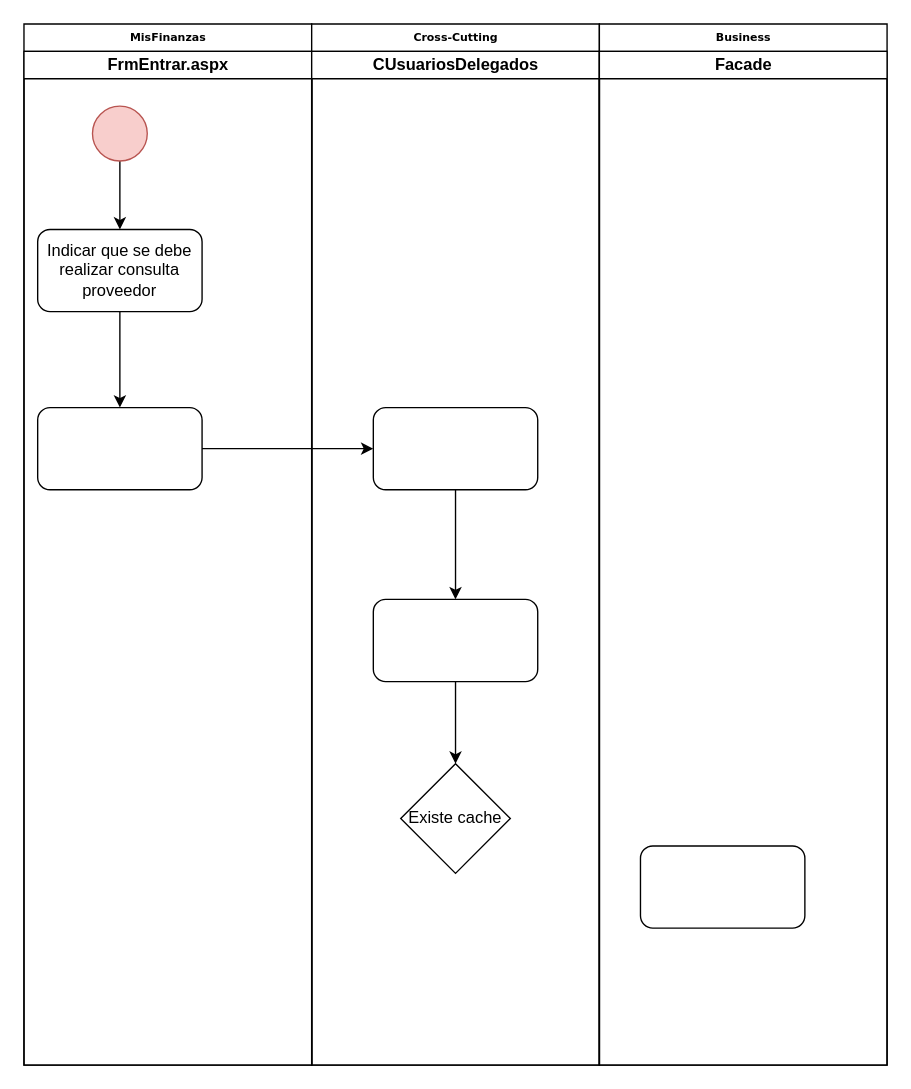
Some shapes in this 911 by 1089 pixel diagram are drawn without their labels. Each missing label, with the centre of its shape:
Consultar: the point at 722,886
ConsultarRelacion: the point at 455,448
CrearSesion: the point at 119,448
fProveedorSeve: the point at 455,640
